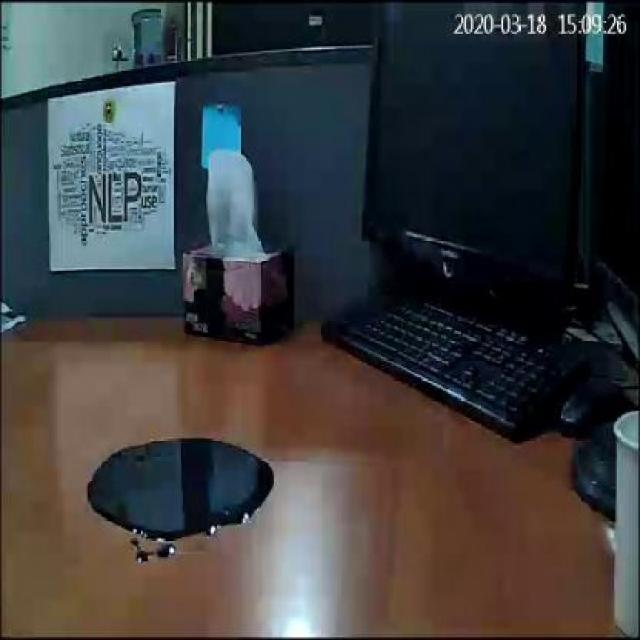spill: (78, 430, 278, 556)
